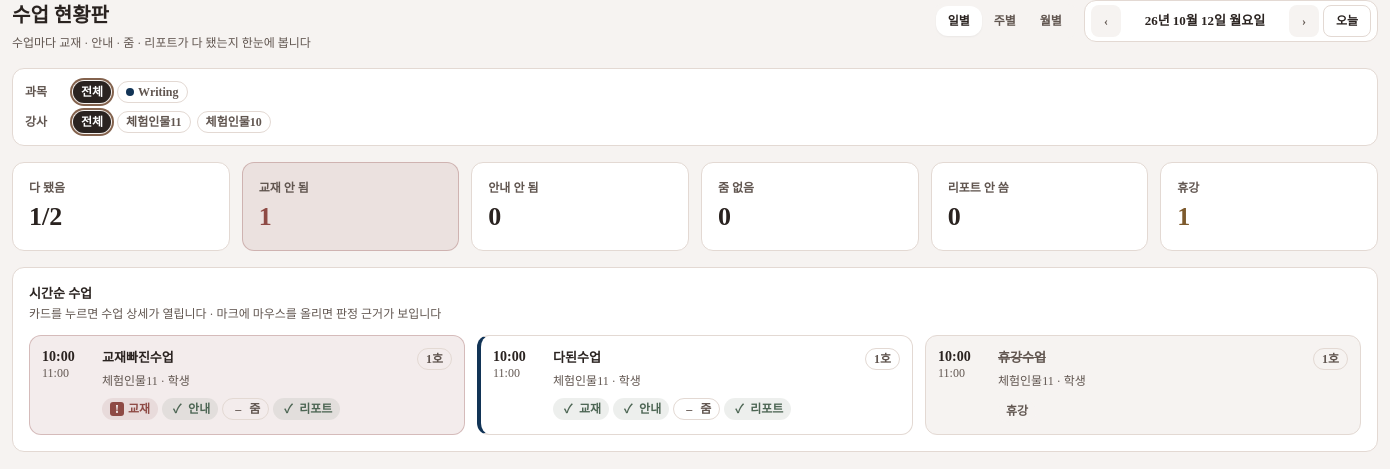
Test: 머리 칸을 누르면 그 항목만 남고 다시 누르면 풀린다 — 「미완료만」 체크는 없다 (§34)
Expected: the text "교재빠진수업" is shown, [102, 348, 174, 368]
Click the button "교재 안 됨 1": coordinates (351, 206) [242, 162, 459, 250]
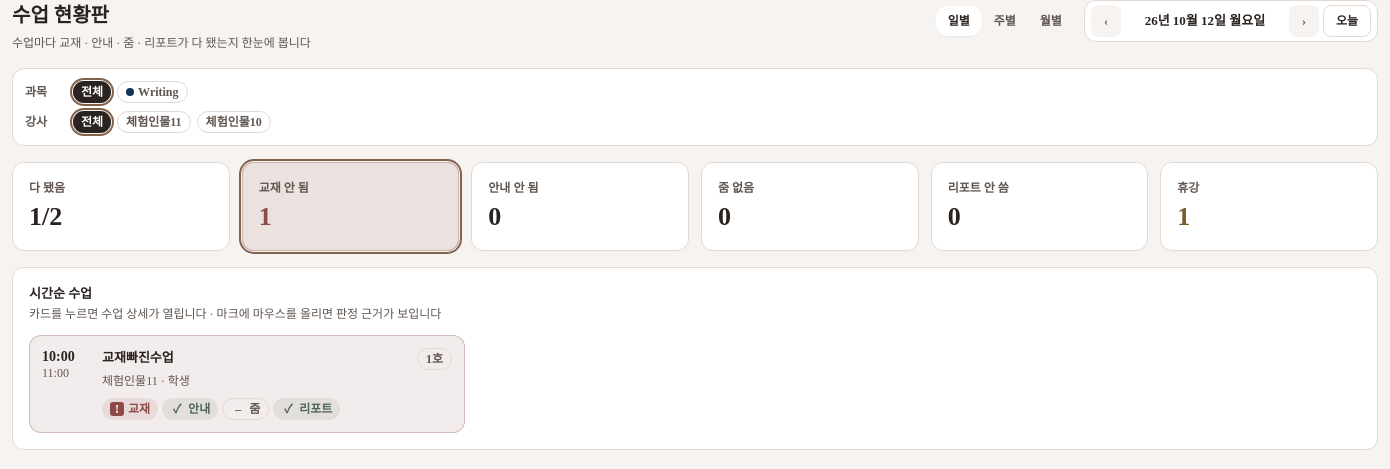
Expected: the text "교재빠진수업" is shown, [102, 348, 174, 368]
Expected: the button "다된수업" is gone
Expected: the button "휴강수업" is gone
Click the button "휴강 1": coordinates (1269, 206) [1160, 162, 1378, 250]
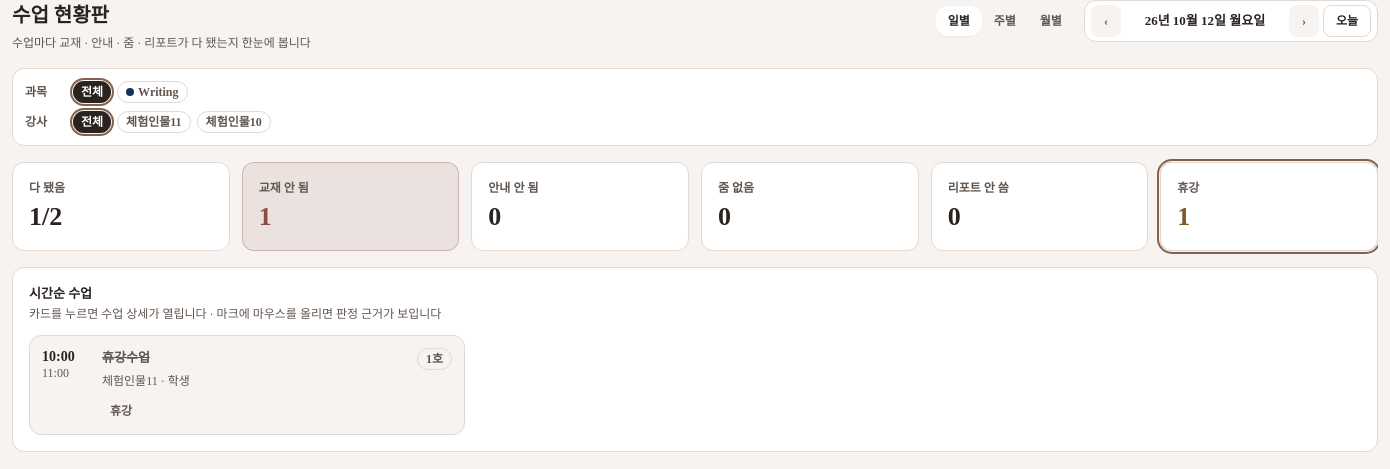
Expected: the text "휴강수업" is shown, [102, 348, 150, 368]
Expected: the button "교재빠진수업" is gone
Click the button "다 됐음 1/2": coordinates (121, 206) [12, 162, 230, 250]
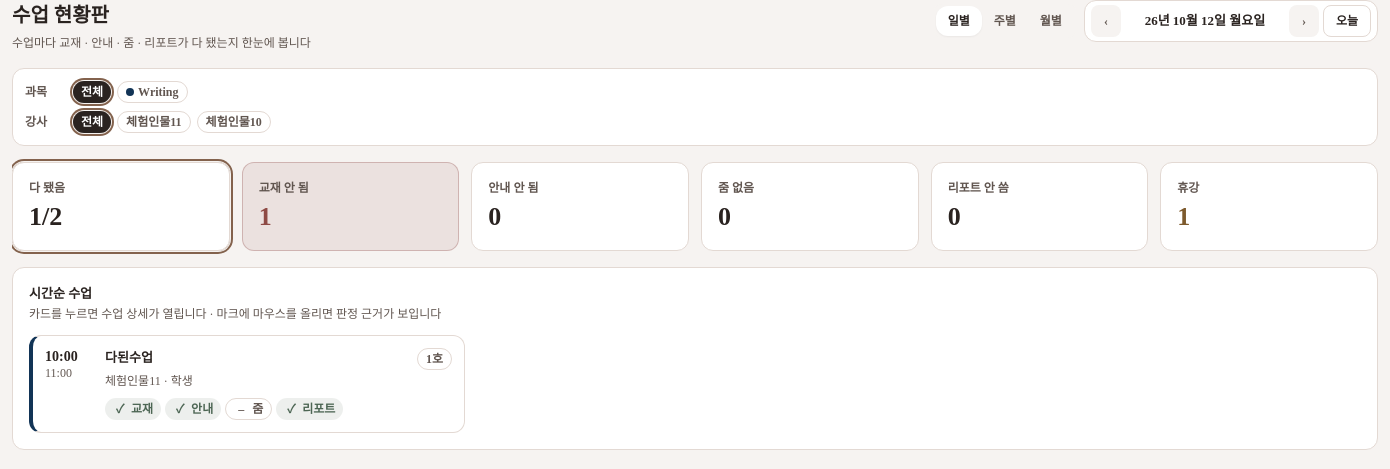
Expected: the text "다된수업" is shown, [105, 348, 153, 368]
Expected: the button "휴강수업" is gone
Click the button "다 됐음 1/2": coordinates (121, 206) [12, 162, 230, 250]
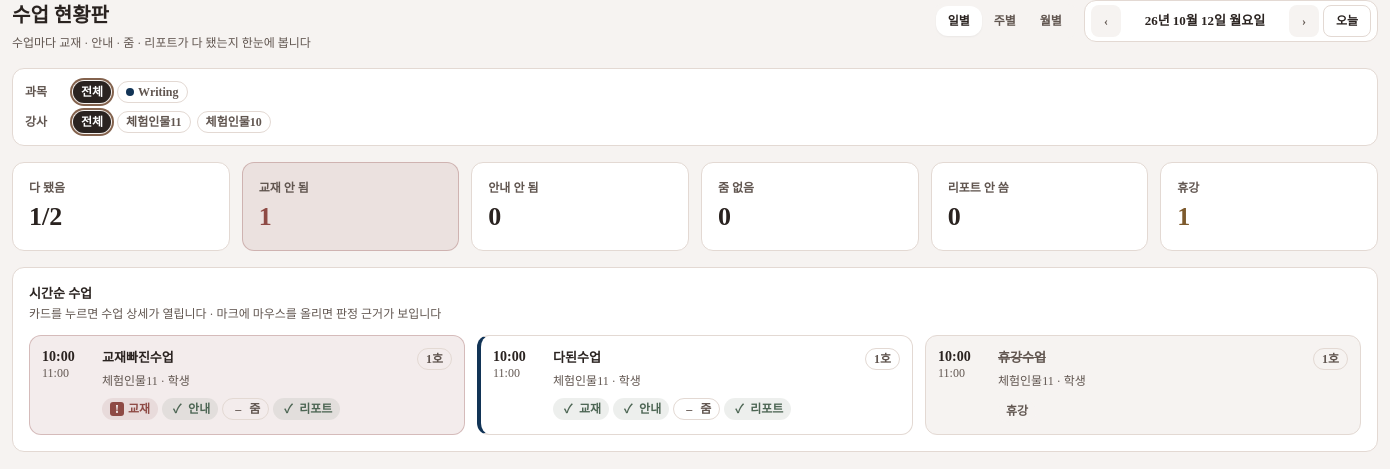
Expected: the text "다된수업" is shown, [553, 348, 601, 368]
Expected: the text "교재빠진수업" is shown, [102, 348, 174, 368]
Expected: the text "휴강수업" is shown, [998, 348, 1046, 368]
